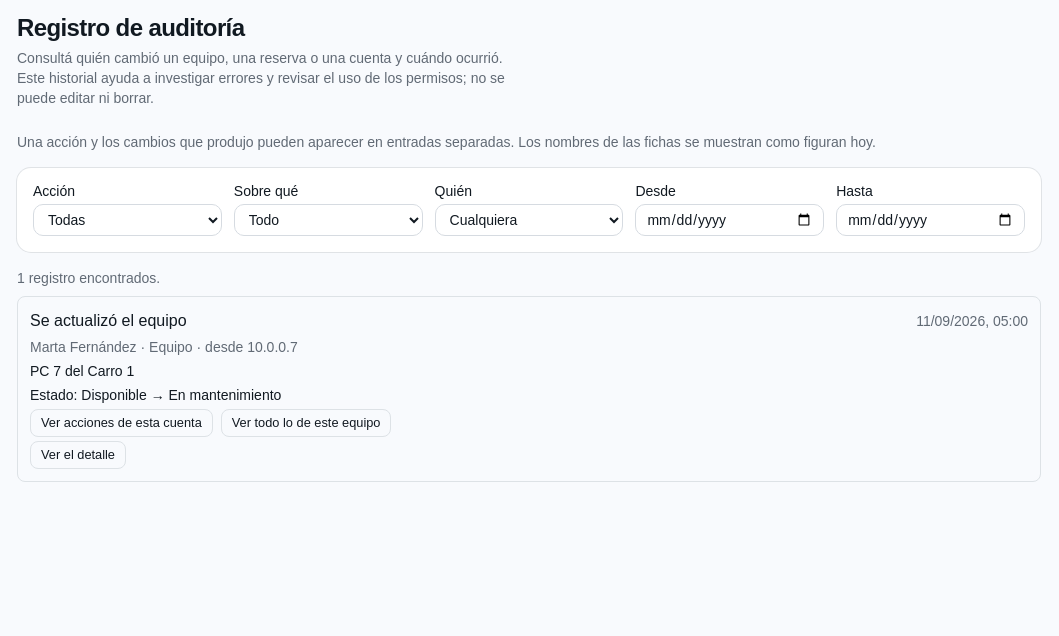
Test: AuditoriaPage › explica un cambio transaccional con su ficha y valores anteriores y nuevos
Expected: the text "Se actualizó el equipo" is shown, [30,309,187,333]
Expected: the text "PC 7 del Carro 1" is shown, [30,363,134,379]
Click the button "Ver el detalle". click: [78, 455]
box: [30,441,126,469]
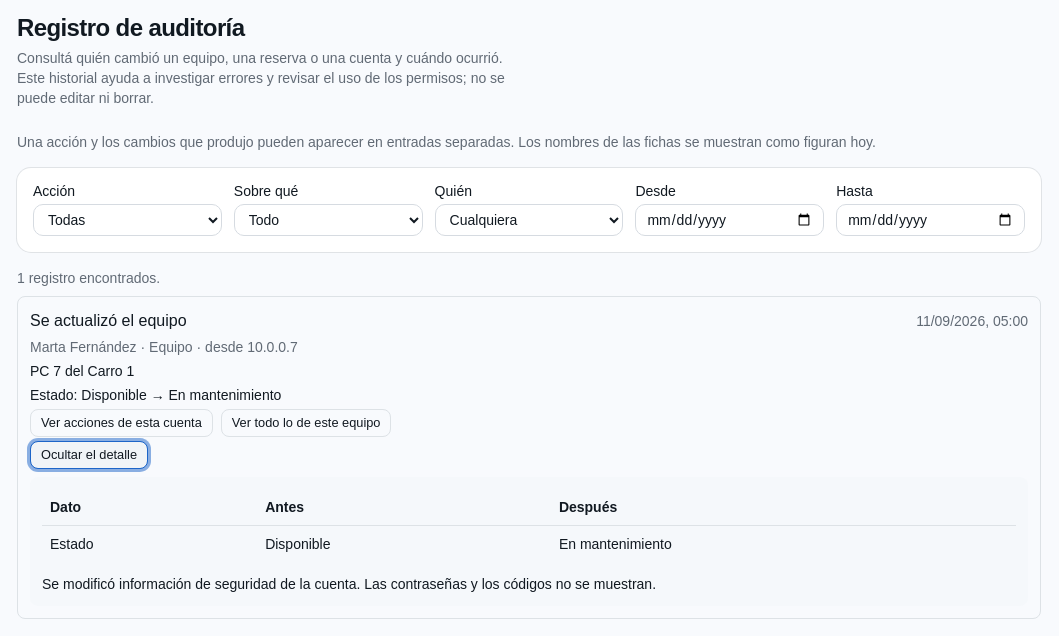
Expected: the column heading "Antes" is shown, [257,489,551,526]
Expected: the column heading "Después" is shown, [551,489,1016,526]
Expected: the text "Disponible" is shown, [257,526,551,562]
Click the button "Ocultar el detalle". click: [89, 455]
box: [30,441,148,469]
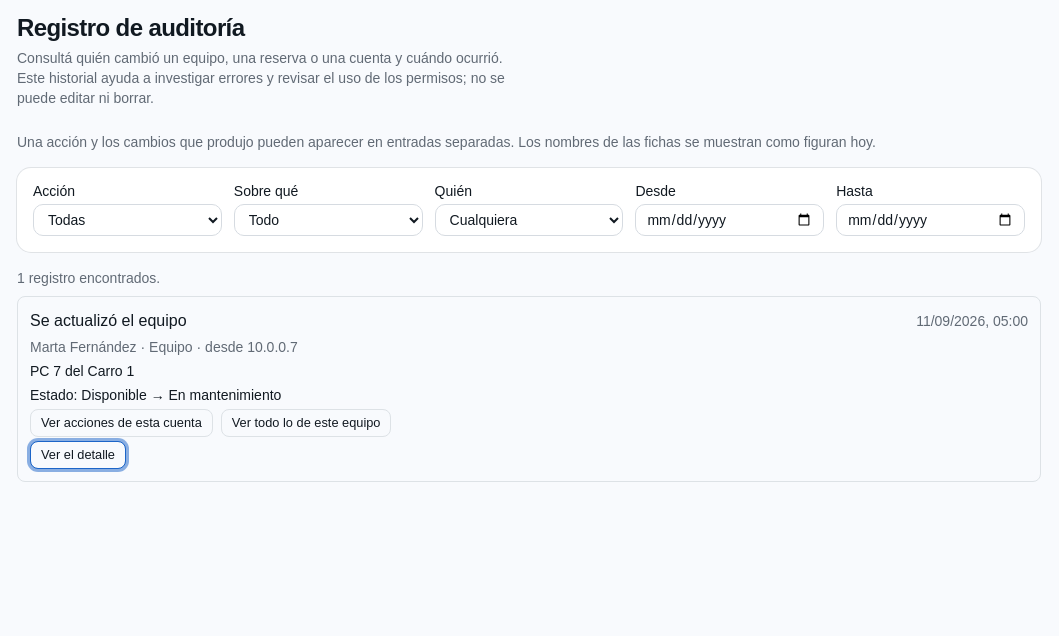
Expected: the table is gone
